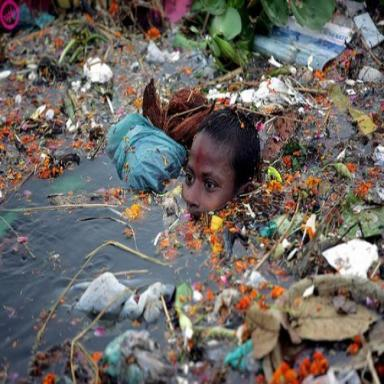plasticbag: (104, 107, 185, 203), (76, 263, 178, 320), (100, 326, 180, 383), (236, 68, 320, 116), (83, 52, 114, 84)
